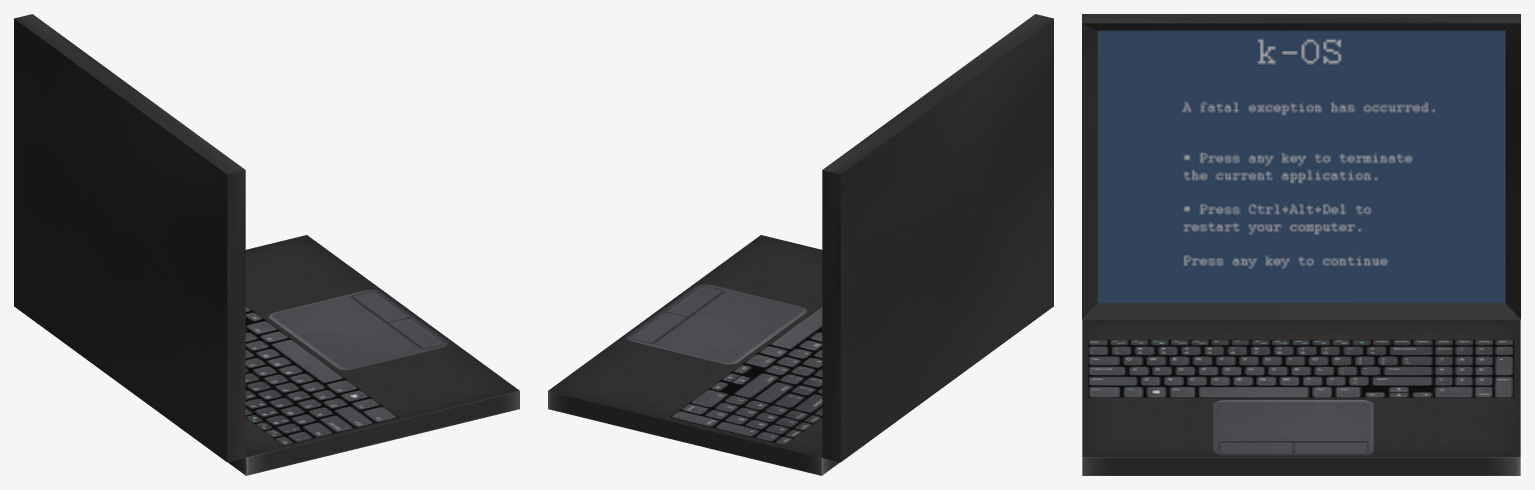
The model's file is Laptop.FBX.
3 views of the same model, side by side, from view 1: azimuth 30°, elevation 25°; view 2: azimuth 150°, elevation 25°; view 3: azimuth 270°, elevation 25° (orthographic). The views are drawn at different scales.
Parts seen in each view (by area): view 1: MonitorFrame, Box001; view 2: MonitorFrame, Box001; view 3: Screen, Box001, MonitorFrame.
Boxes of the visible parts, left/top/right/bottom form: MonitorFrame: left=14, top=14, right=245, bottom=462; Box001: left=228, top=235, right=519, bottom=475; MonitorFrame: left=822, top=14, right=1053, bottom=462; Box001: left=548, top=235, right=839, bottom=475; Screen: left=1097, top=30, right=1505, bottom=302; Box001: left=1082, top=319, right=1520, bottom=475; MonitorFrame: left=1082, top=14, right=1520, bottom=319.
Size of the model in its own units: 0.3171 by 0.3169 by 0.4.
Materials: 1 (1 with a texture image).
